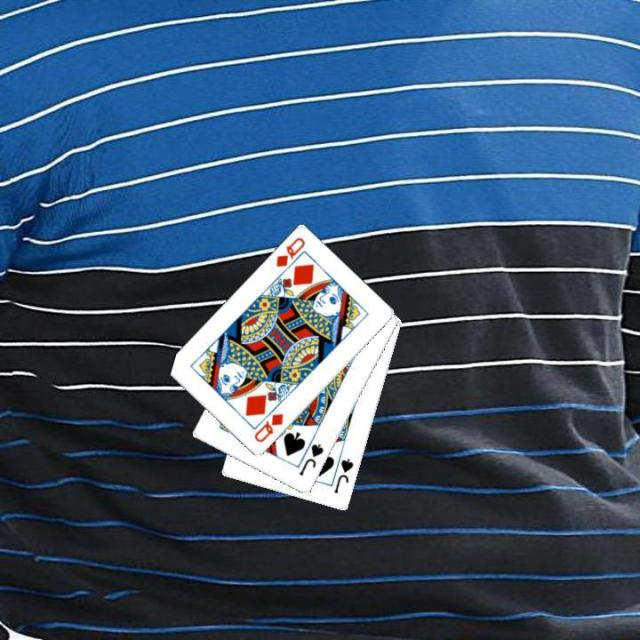JS: (295, 440, 325, 478), (330, 455, 356, 495)
QD: (272, 234, 307, 269), (250, 410, 285, 444)
